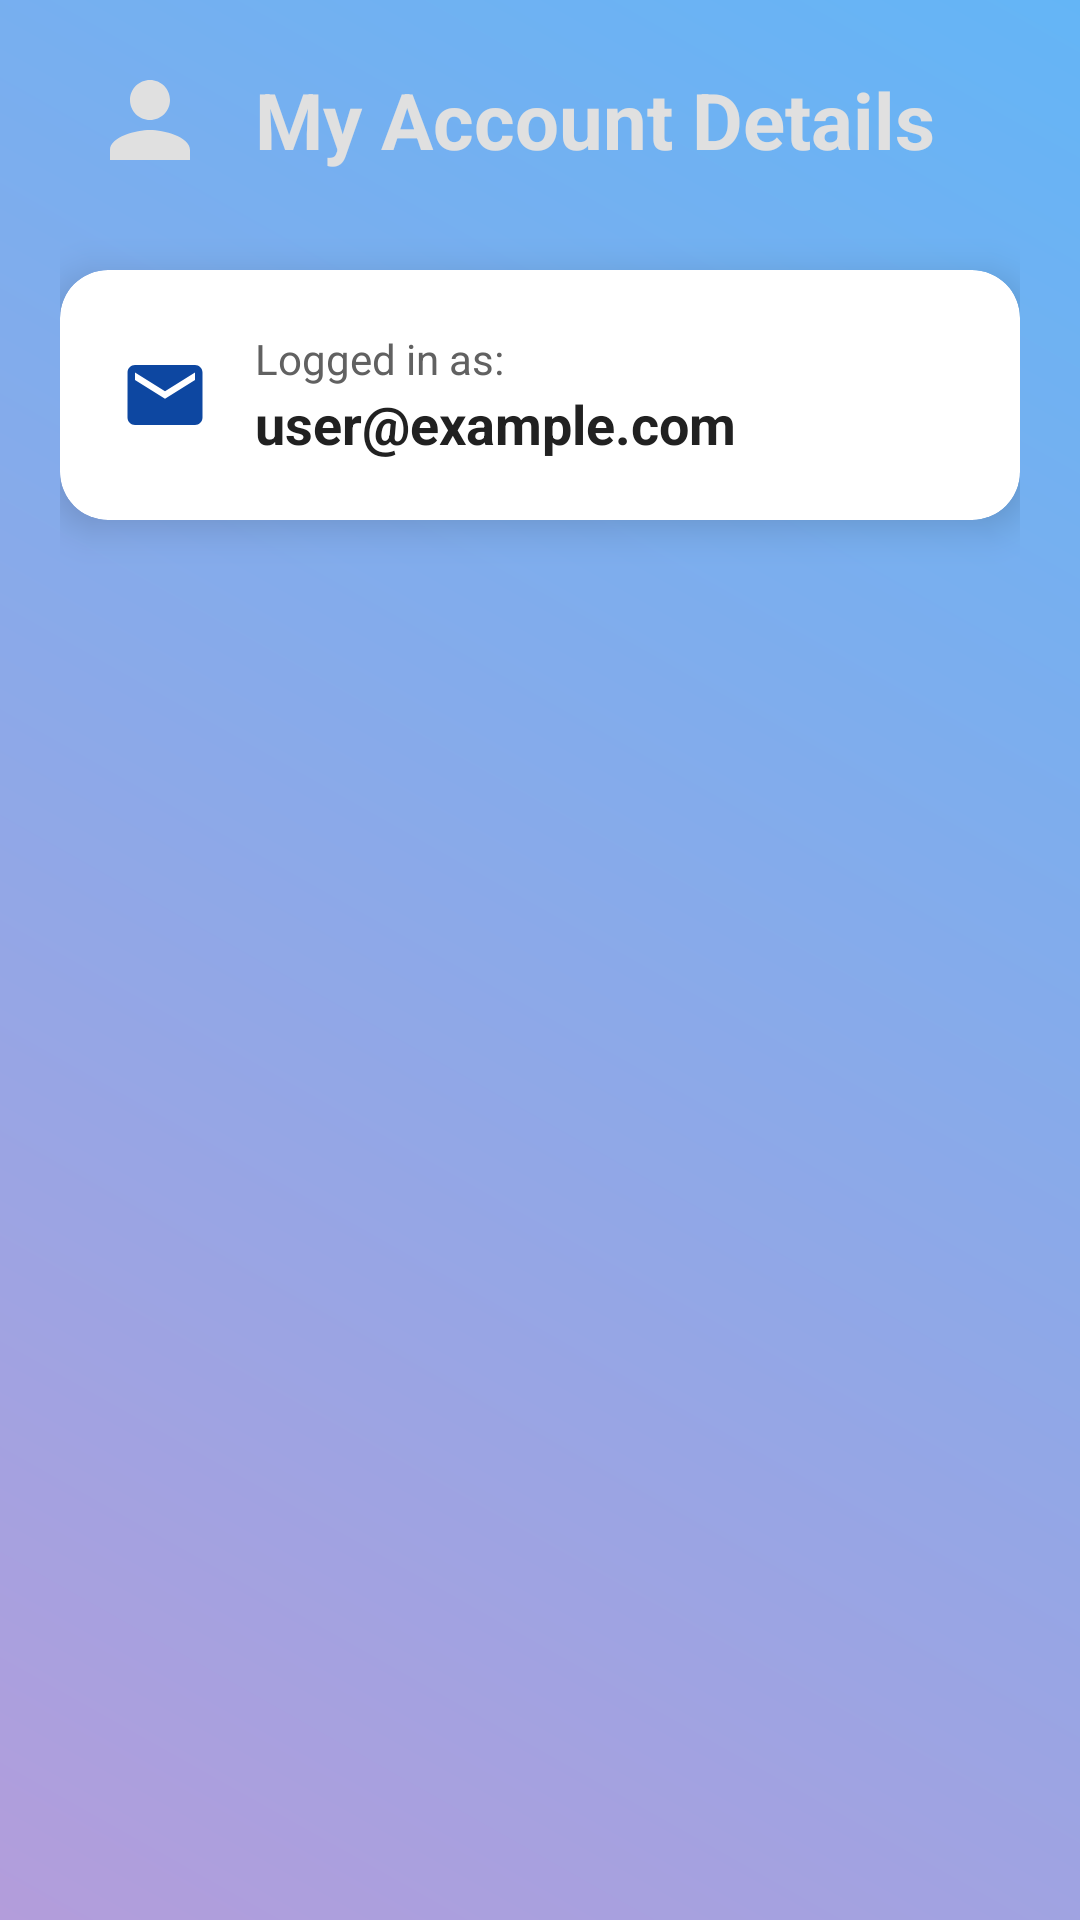

Named icons in this screenshot (1080×1920) and their bounding boxes, {"left": x1, "top": y1, "right": x2, "bottom": y2}:
bankaccount email: {"left": 127, "top": 365, "right": 203, "bottom": 425}
